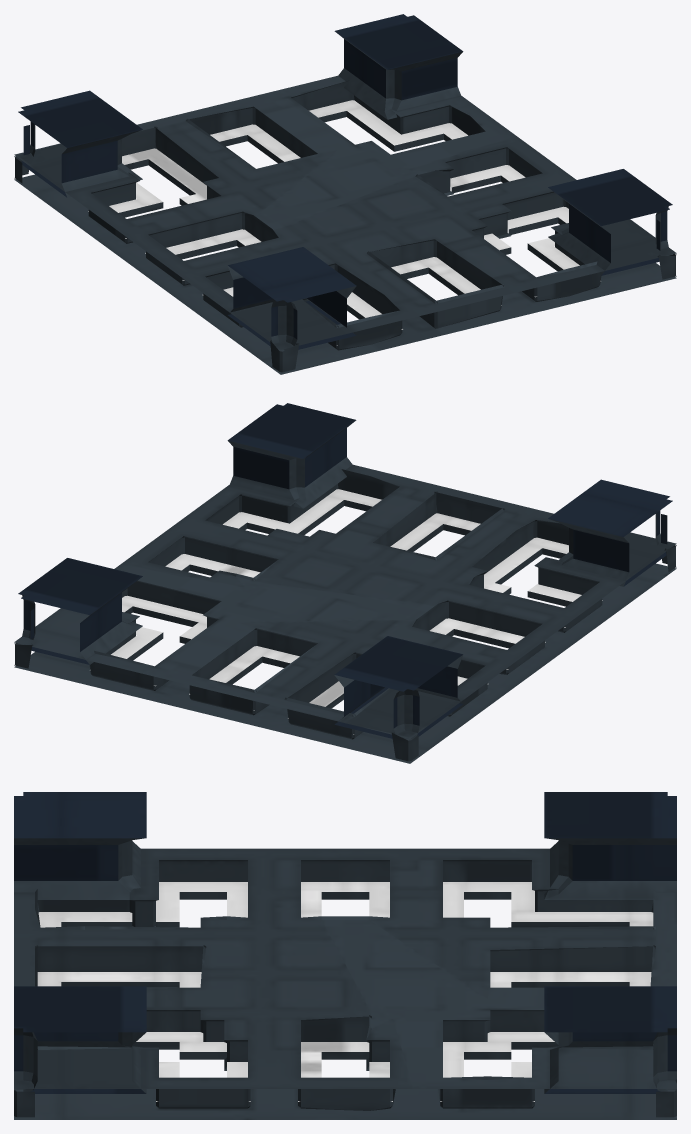
File: delbld-girder-577.glb
The picture shows the model from 3 angles, top to bottom: view 1: azimuth 30°, elevation 25°; view 2: azimuth 150°, elevation 25°; view 3: azimuth 270°, elevation 25°; orthographic projection. The views are drawn at different scales.
Visible parts, largest first — view 1: delbld-girder-577; view 2: delbld-girder-577; view 3: delbld-girder-577.
Part boxes in pixels (left/top/right/bottom): delbld-girder-577: left=14, top=14, right=676, bottom=374; delbld-girder-577: left=14, top=403, right=676, bottom=763; delbld-girder-577: left=14, top=792, right=676, bottom=1119.
Bounding box in the file's own units: 2 × 0.35 × 2.33.
Materials: 3 (3 with a texture image).
